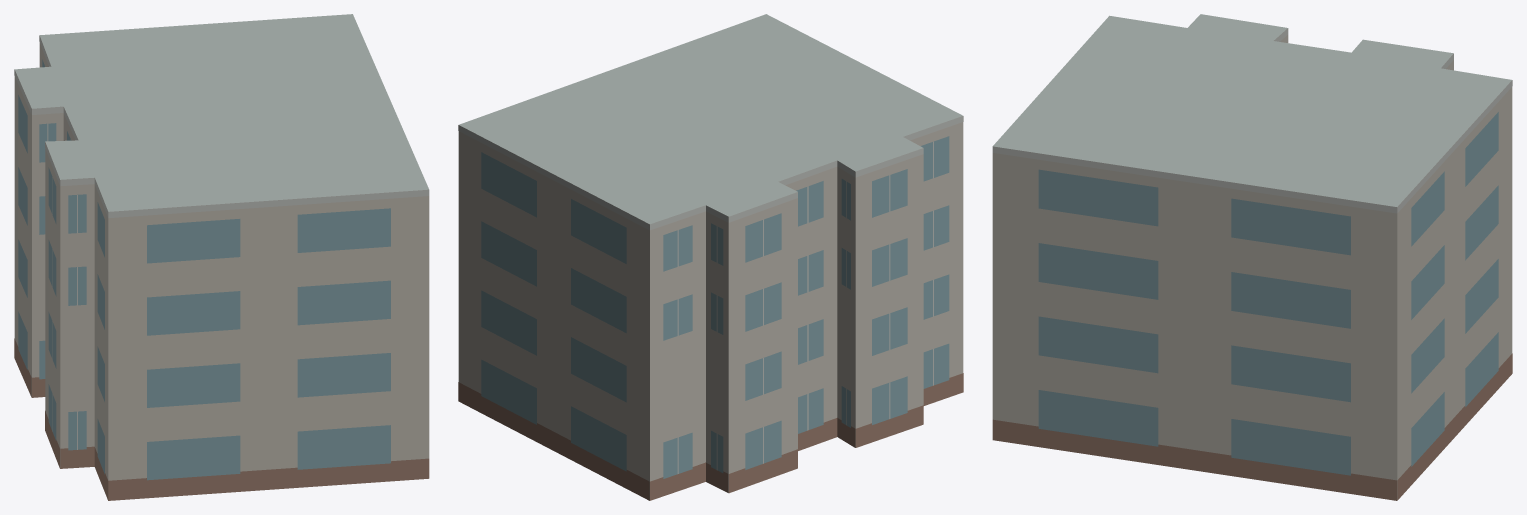
Rendered from survey-upis-32682607.glb.
3 renders of one model, left to right at view 1: azimuth 30°, elevation 25°; view 2: azimuth 150°, elevation 25°; view 3: azimuth 270°, elevation 25°, orthographic. The views are drawn at different scales.
Parts seen in each view (by area): view 1: survey-upis-32682607.tmp; view 2: survey-upis-32682607.tmp; view 3: survey-upis-32682607.tmp.
Boxes of the visible parts, box(x1,y1,x2,y2) form: survey-upis-32682607.tmp: box(14, 14, 429, 500); survey-upis-32682607.tmp: box(458, 14, 963, 500); survey-upis-32682607.tmp: box(992, 14, 1512, 500).
Size of the model in its own units: 15.66 by 11.1 by 17.81.
